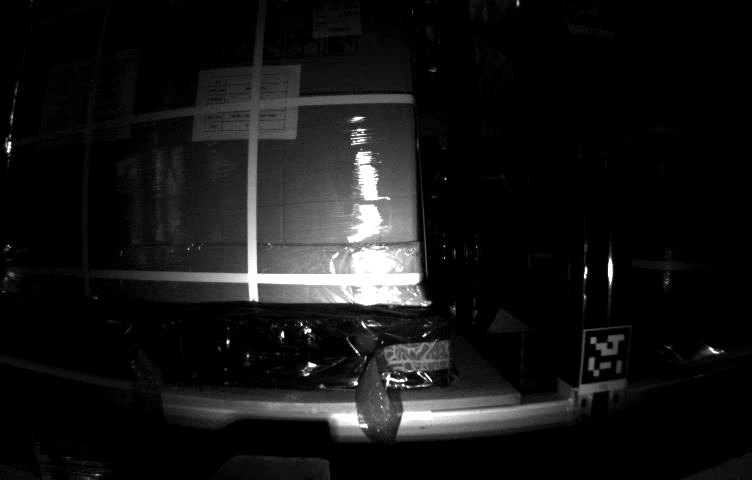True Barcode: (312, 3, 365, 36)
